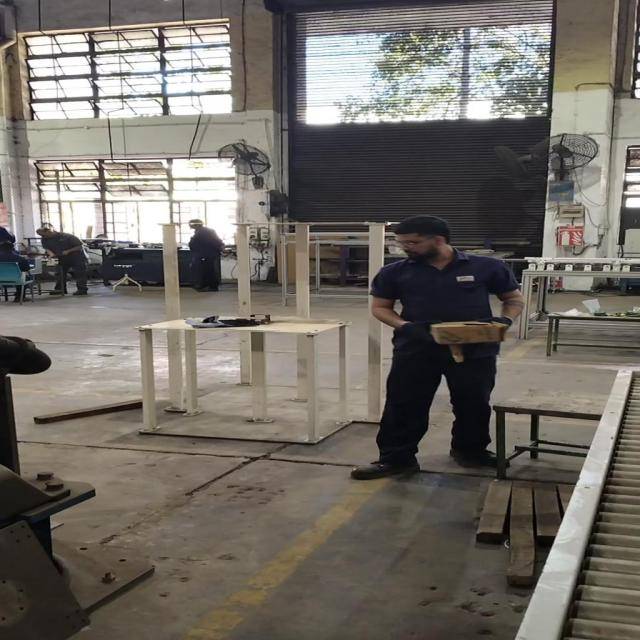Gloves-Detection: (393, 321, 436, 348)
